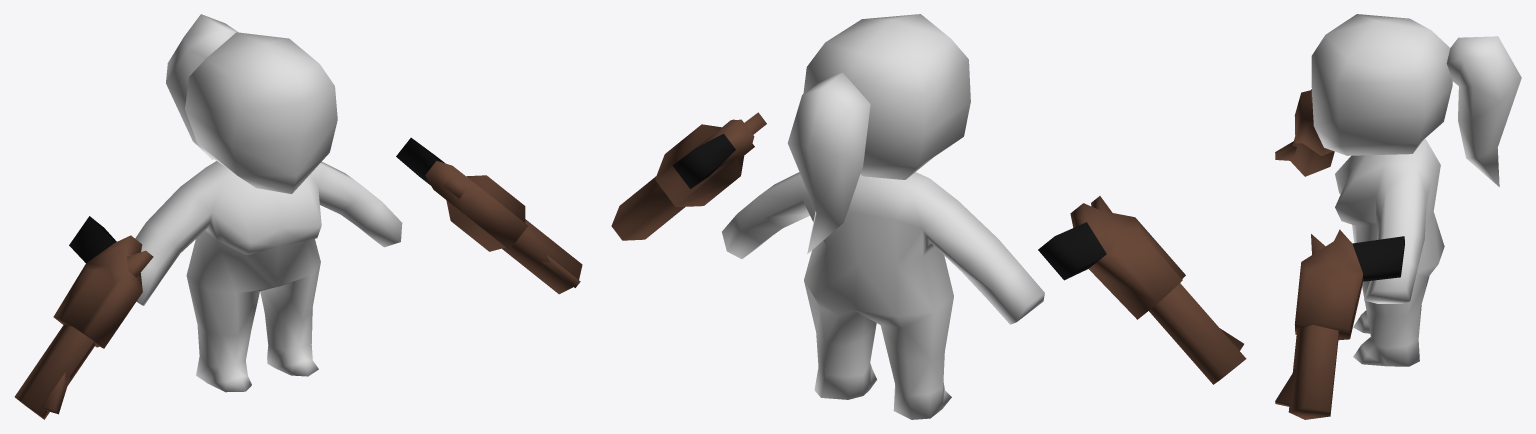
The model's file is LenaRiderSurvivor.fbx.
The picture shows the model from 3 angles, left to right: view 1: azimuth 30°, elevation 25°; view 2: azimuth 150°, elevation 25°; view 3: azimuth 270°, elevation 25°; orthographic projection. The views are drawn at different scales.
Parts seen in each view (by area): view 1: f_head_03_1, w_revolver, w_revolver_1; view 2: f_head_03_1, w_revolver, w_revolver_1; view 3: f_head_03_1, w_revolver_1, w_revolver.
Part boxes in pixels (<box>): f_head_03_1: <box>135,14,402,392</box>; w_revolver: <box>14,216,153,419</box>; w_revolver_1: <box>396,137,582,294</box>; f_head_03_1: <box>722,14,1044,419</box>; w_revolver: <box>1038,196,1246,384</box>; w_revolver_1: <box>611,112,766,240</box>; f_head_03_1: <box>1311,14,1521,366</box>; w_revolver_1: <box>1275,229,1404,419</box>; w_revolver: <box>1275,89,1334,176</box>.
Bounding box in the file's own units: 1.53 × 0.8634 × 0.6013.
